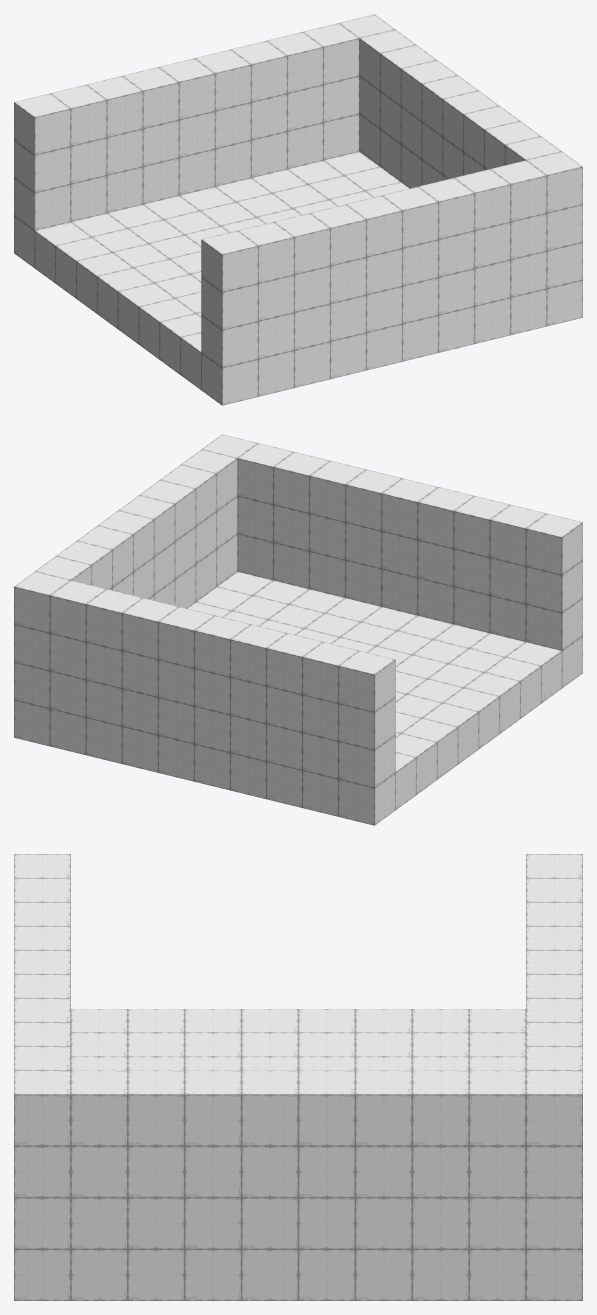
File: ProB_Floor_UWall_10x10.fbx
3 views of the same model, one above another, from view 1: azimuth 30°, elevation 25°; view 2: azimuth 150°, elevation 25°; view 3: azimuth 270°, elevation 25° (orthographic). The views are drawn at different scales.
Parts seen in each view (by area): view 1: ProB_Floor_UWall_10x10; view 2: ProB_Floor_UWall_10x10; view 3: ProB_Floor_UWall_10x10.
Part boxes in pixels (x1,y1,x2,y2): ProB_Floor_UWall_10x10: [14, 14, 582, 405]; ProB_Floor_UWall_10x10: [14, 434, 582, 825]; ProB_Floor_UWall_10x10: [14, 854, 582, 1300].
Bounding box in the file's own units: 1000 × 400 × 1000.
